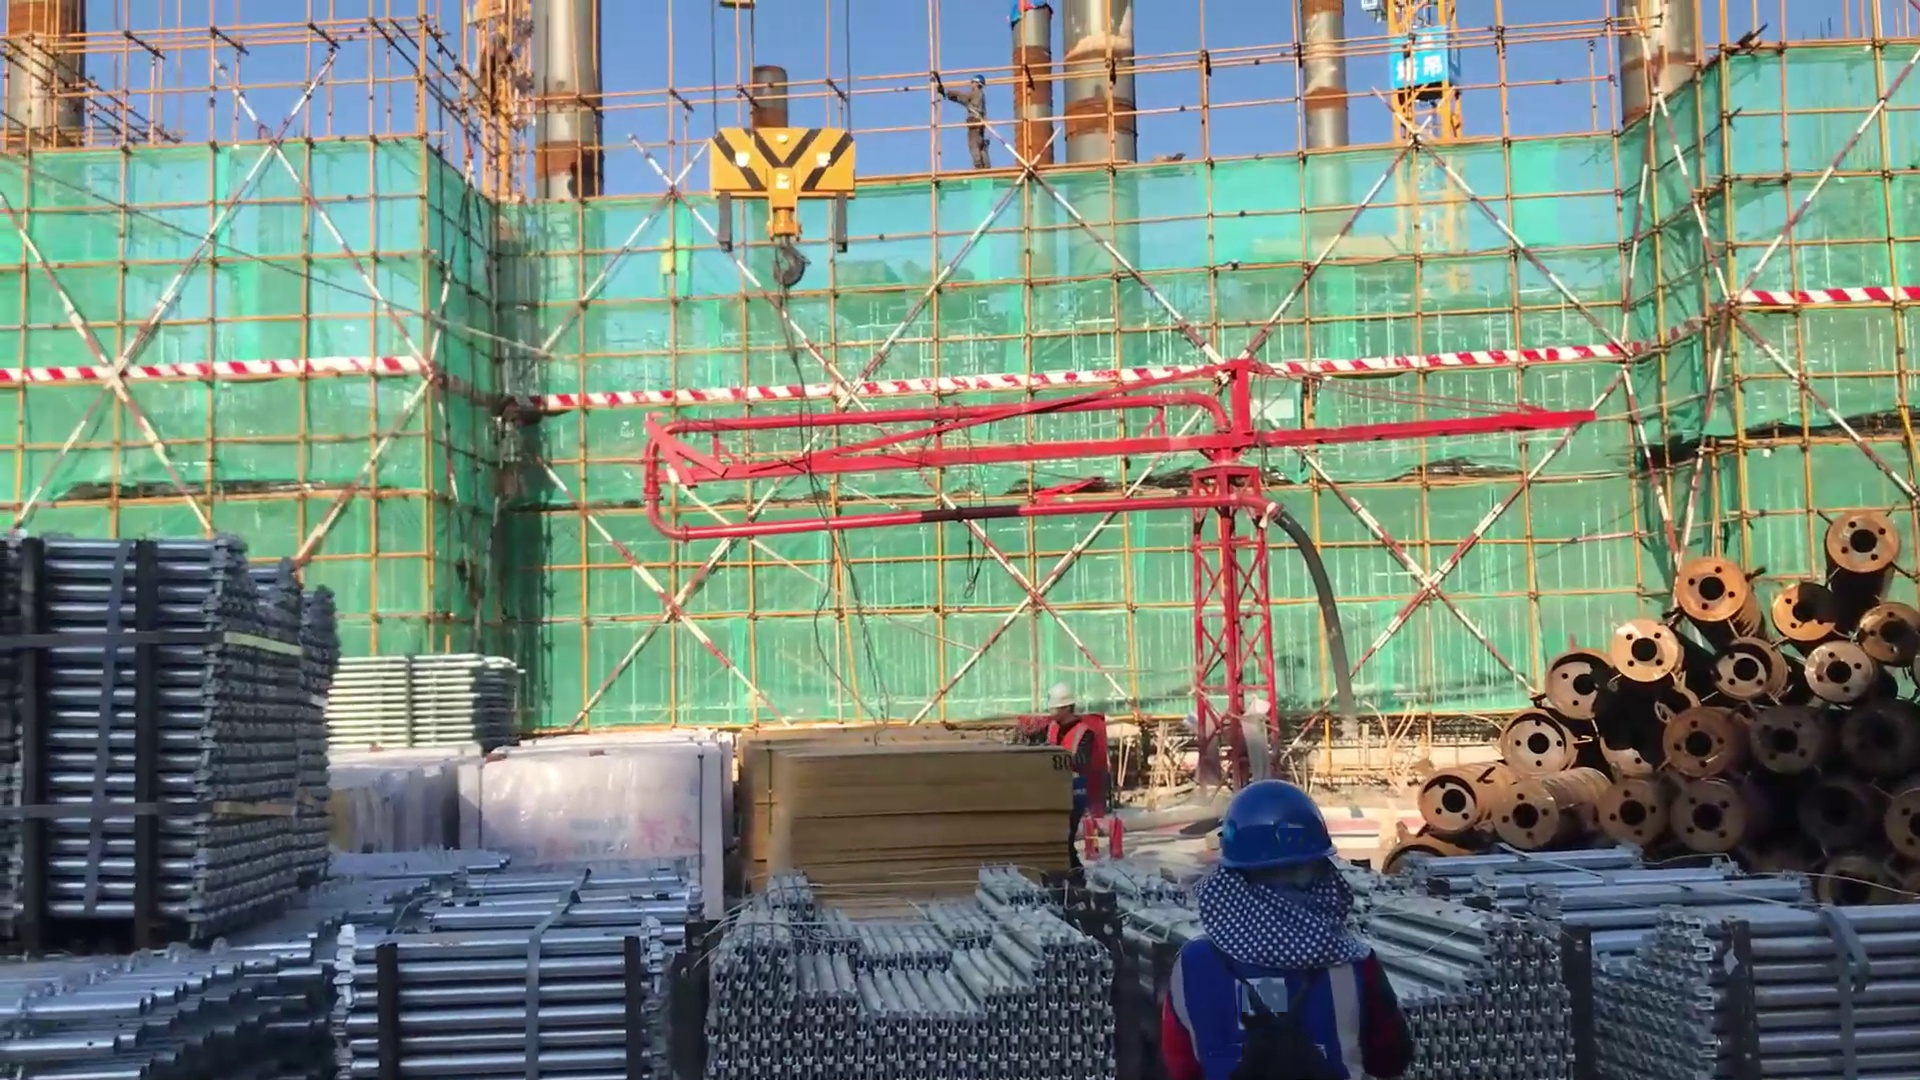board: (742, 727, 1073, 877)
helmet: (1211, 774, 1347, 871), (1044, 681, 1081, 715), (970, 71, 993, 87)
hook: (684, 114, 894, 323)
person: (1154, 785, 1410, 1076), (1036, 687, 1117, 889), (929, 55, 1006, 182)
scaffold: (1, 516, 383, 956), (1369, 841, 1920, 1073), (1, 845, 455, 1077), (700, 860, 1127, 1080), (320, 846, 725, 1073), (318, 645, 545, 751)
slogan: (1387, 20, 1445, 88)
vest: (1170, 930, 1370, 1079), (1044, 718, 1096, 810)
